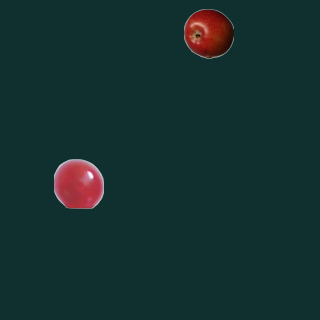Apple Braeburn: (183, 8, 233, 58)
Redcurrant: (53, 158, 103, 208)
